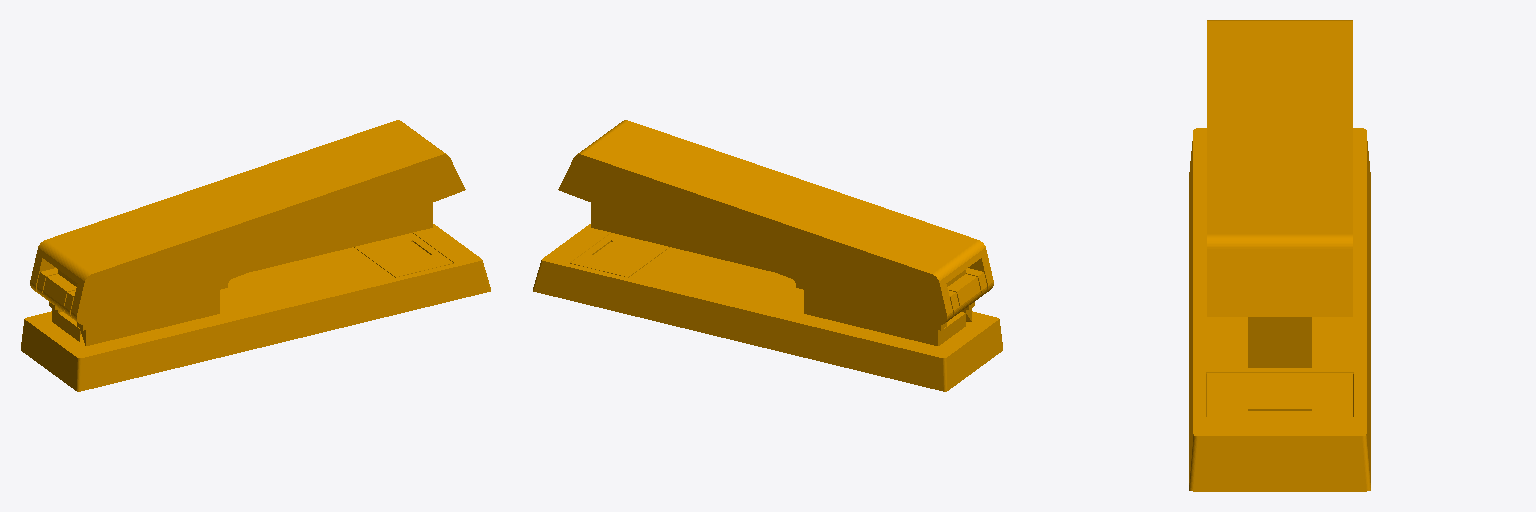
robot.urdf — object:
<?xml version="1.0"?>
<robot name="object">
  <link name="object">
    <visual>
      <origin xyz="0.0 0.0 0.0"/>
      <geometry>
        <mesh filename="stapler.stl" scale="1.00 1.00 1.00"/>
      </geometry>
    </visual>
    <collision>
      <origin xyz="0.0 0.0 0.0"/>
      <geometry>
        <mesh filename="stapler.stl" scale="1.00 1.00 1.00"/>
      </geometry>
    </collision>
  </link>
</robot>
    
                    

--- Render facts (derived) ---
3 views of the same robot in one strip: view 1: azimuth 30°, elevation 25°; view 2: azimuth 150°, elevation 25°; view 3: azimuth 270°, elevation 25° (orthographic).
Model object with 1 links and 0 joints (none), rooted at object, posed every joint at zero.
Links seen in each view (by area): view 1: object; view 2: object; view 3: object.
Link boxes in pixels (x1,y1,x2,y2): object: (21,120,490,391); object: (533,120,1002,391); object: (1189,20,1370,491).
Bounding box of the posed robot: 0.123 × 0.03 × 0.0405 m (x, y, z).
1 mesh visuals loaded from 1 distinct referenced files (1 binary STL).
